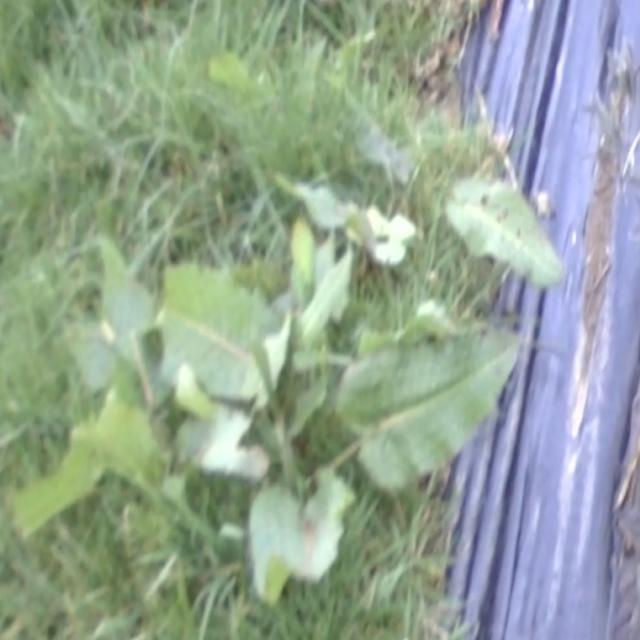organic waste: (43, 213, 510, 562)
